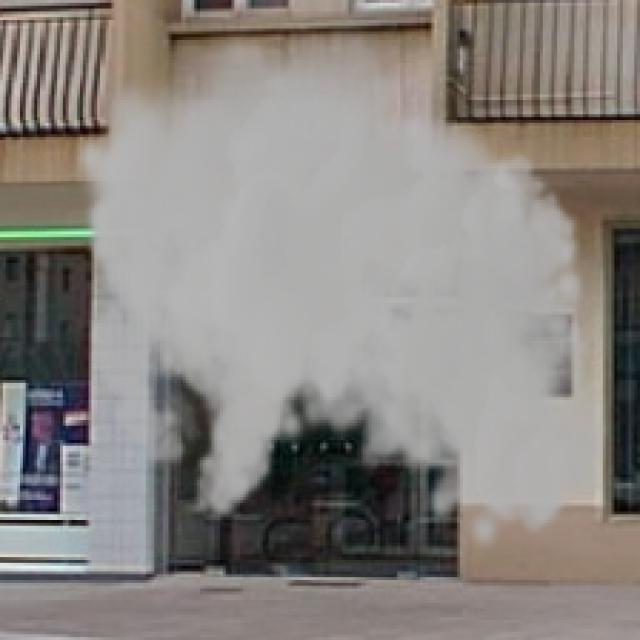Smoke: (71, 12, 612, 554)
